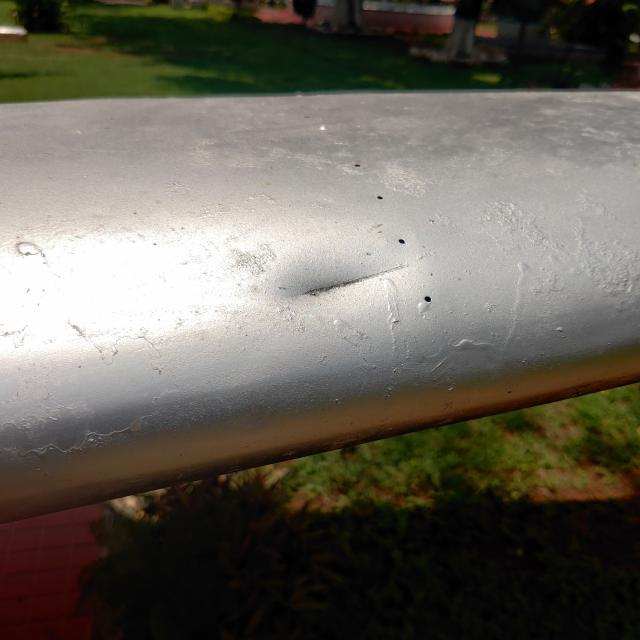dent: (275, 211, 416, 330)
